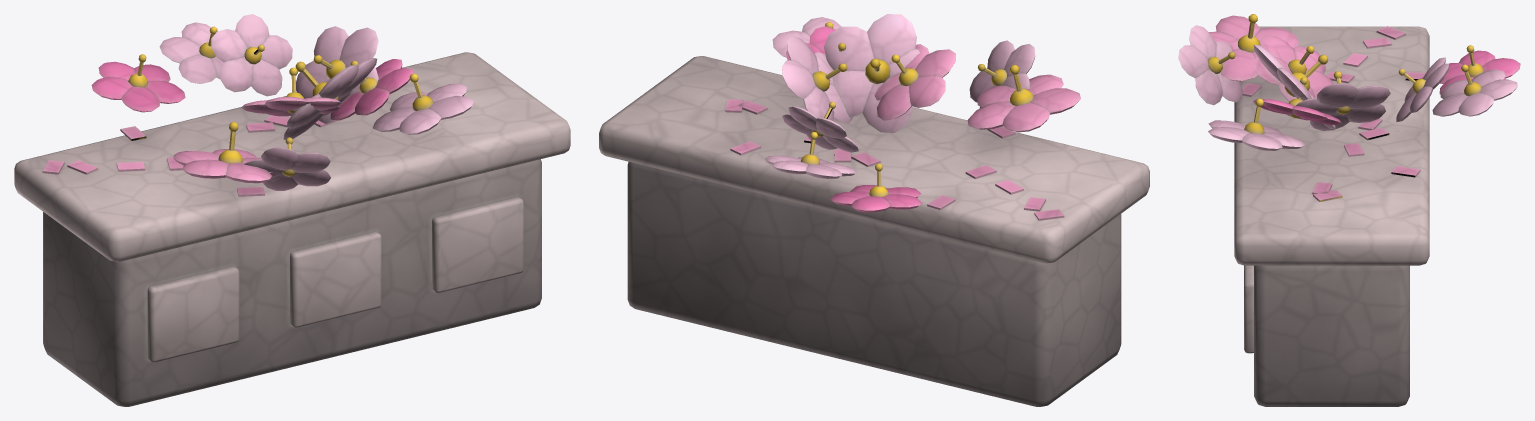
File: cb_obstacle_flower_wall.glb
The picture shows the model from 3 angles, left to right: view 1: azimuth 30°, elevation 25°; view 2: azimuth 150°, elevation 25°; view 3: azimuth 270°, elevation 25°; orthographic projection. The views are drawn at different scales.
Parts seen in each view (by area): view 1: cb_obstacle_flower_wall; view 2: cb_obstacle_flower_wall; view 3: cb_obstacle_flower_wall.
Boxes of the visible parts, bbox=[...] form: cb_obstacle_flower_wall: bbox=[14, 14, 570, 406]; cb_obstacle_flower_wall: bbox=[599, 14, 1149, 406]; cb_obstacle_flower_wall: bbox=[1178, 14, 1520, 406].
Bounding box in the file's own units: 2.6 × 1.55 × 1.75.
Materials: 6 (6 with a texture image).
